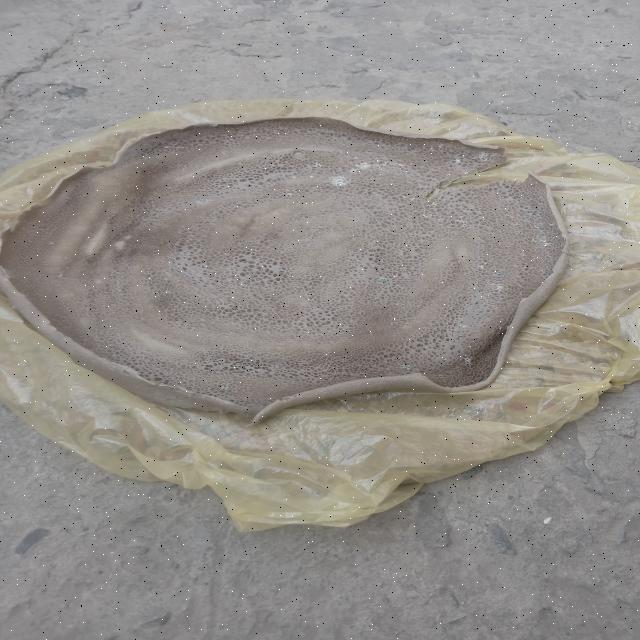injera_mold: (347, 156, 406, 176), (530, 231, 560, 250), (480, 281, 506, 300), (454, 215, 473, 231), (421, 210, 445, 222), (473, 152, 497, 164), (327, 176, 352, 187), (159, 141, 187, 149), (461, 354, 477, 367), (282, 186, 299, 198), (428, 144, 446, 153), (194, 198, 213, 205), (399, 363, 414, 371), (218, 384, 232, 392), (494, 271, 508, 278), (528, 211, 542, 218), (532, 222, 546, 229), (379, 278, 390, 286), (425, 202, 439, 207), (312, 162, 323, 168), (477, 262, 486, 269), (396, 302, 406, 308), (544, 258, 555, 263), (56, 272, 64, 278), (221, 150, 230, 155), (515, 230, 525, 234), (454, 158, 461, 163), (506, 188, 514, 192), (470, 287, 475, 292), (49, 240, 55, 244), (524, 206, 530, 210), (309, 175, 314, 179), (292, 176, 297, 179)
